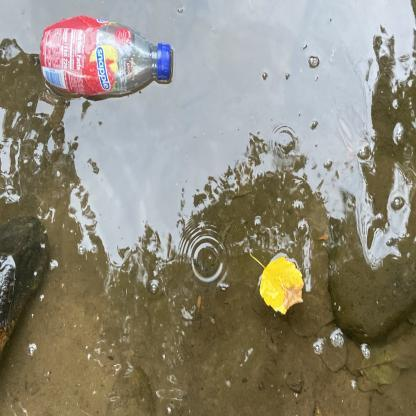trash: (38, 8, 180, 101)
